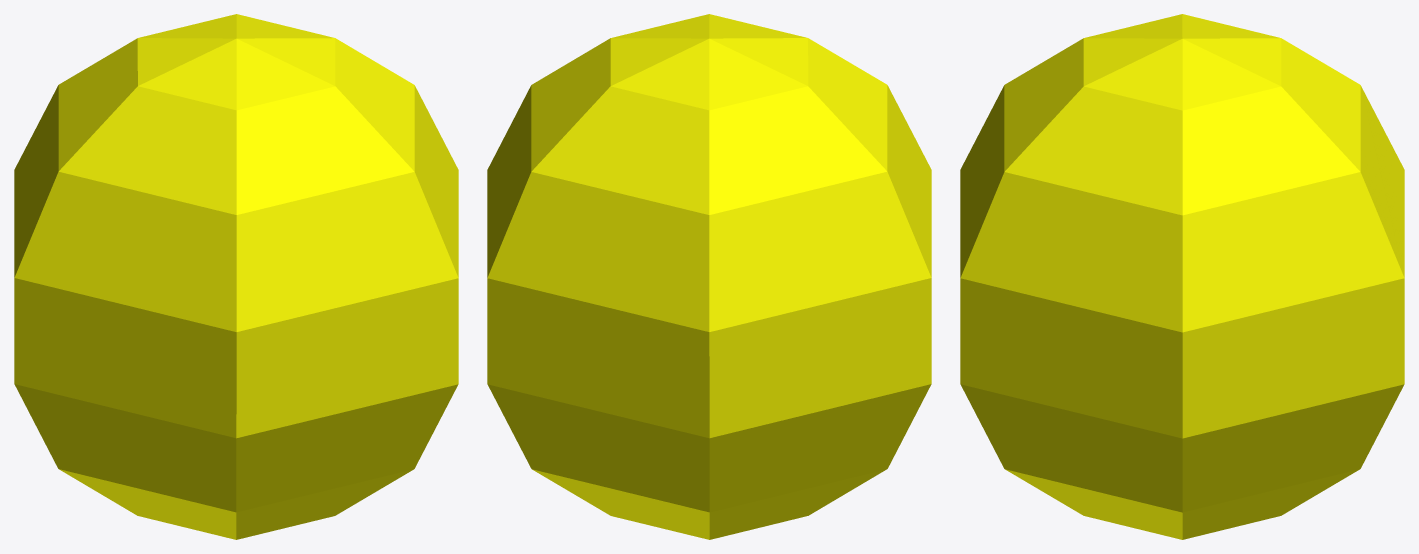
The model's file is arm5dof.dae.
The picture shows the model from 3 angles, left to right: view 1: azimuth 30°, elevation 25°; view 2: azimuth 150°, elevation 25°; view 3: azimuth 270°, elevation 25°; orthographic projection.
Visible parts, largest first — view 1: tool_center_frame; view 2: tool_center_frame; view 3: tool_center_frame.
Boxes of the visible parts, bbox=[...] form: tool_center_frame: bbox=[14, 14, 458, 539]; tool_center_frame: bbox=[487, 14, 931, 539]; tool_center_frame: bbox=[960, 14, 1404, 539].
Bounding box in the file's own units: 0.00975 × 0.00844 × 0.01.
